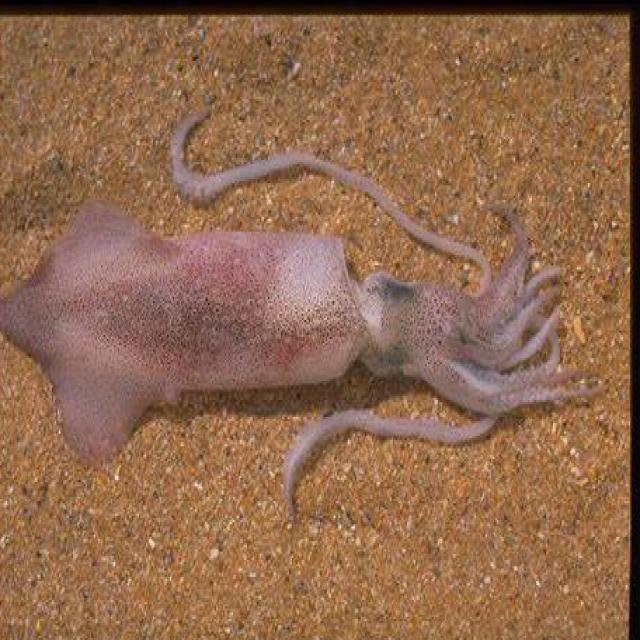SQUID: (0, 126, 609, 495)
